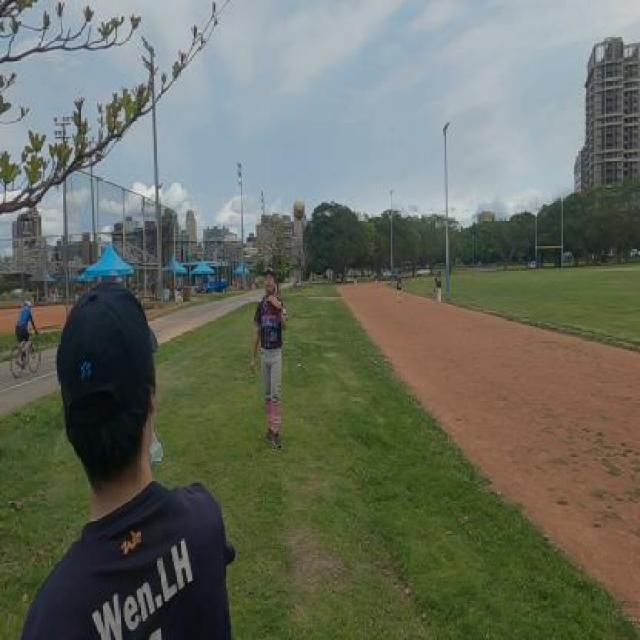baseball: (292, 196, 306, 221)
